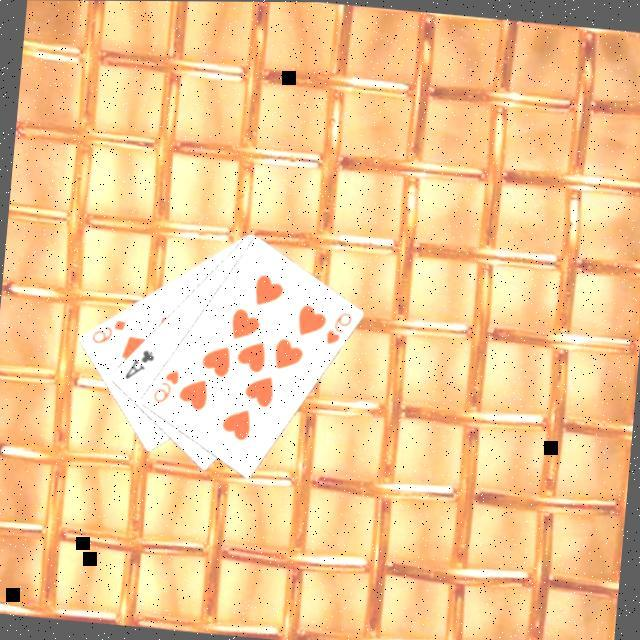9D: (85, 311, 128, 346)
9H: (148, 362, 181, 404), (321, 304, 354, 346)
AC: (119, 342, 156, 383)
